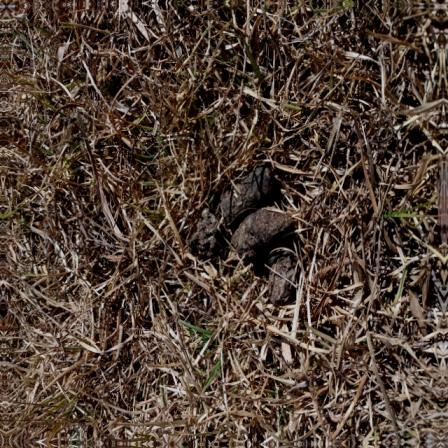dog-poop: (196, 160, 307, 298)
